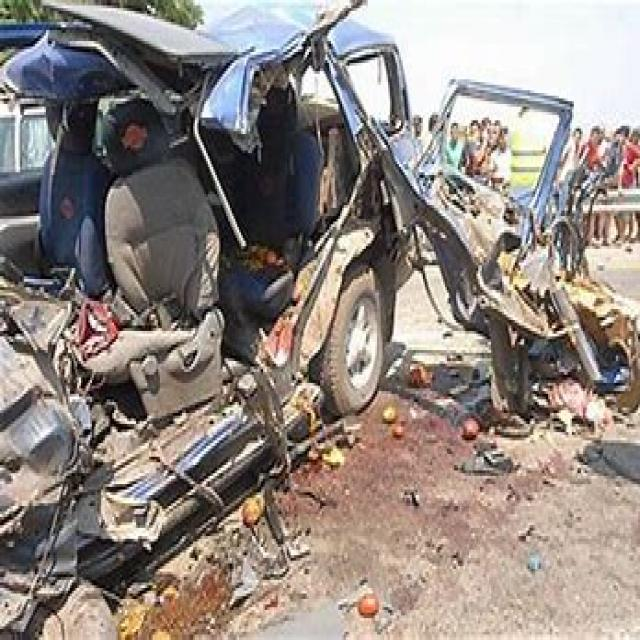Accident: (48, 41, 640, 530)
